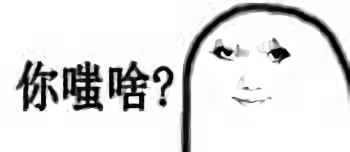dragon: (213, 38, 292, 111)
